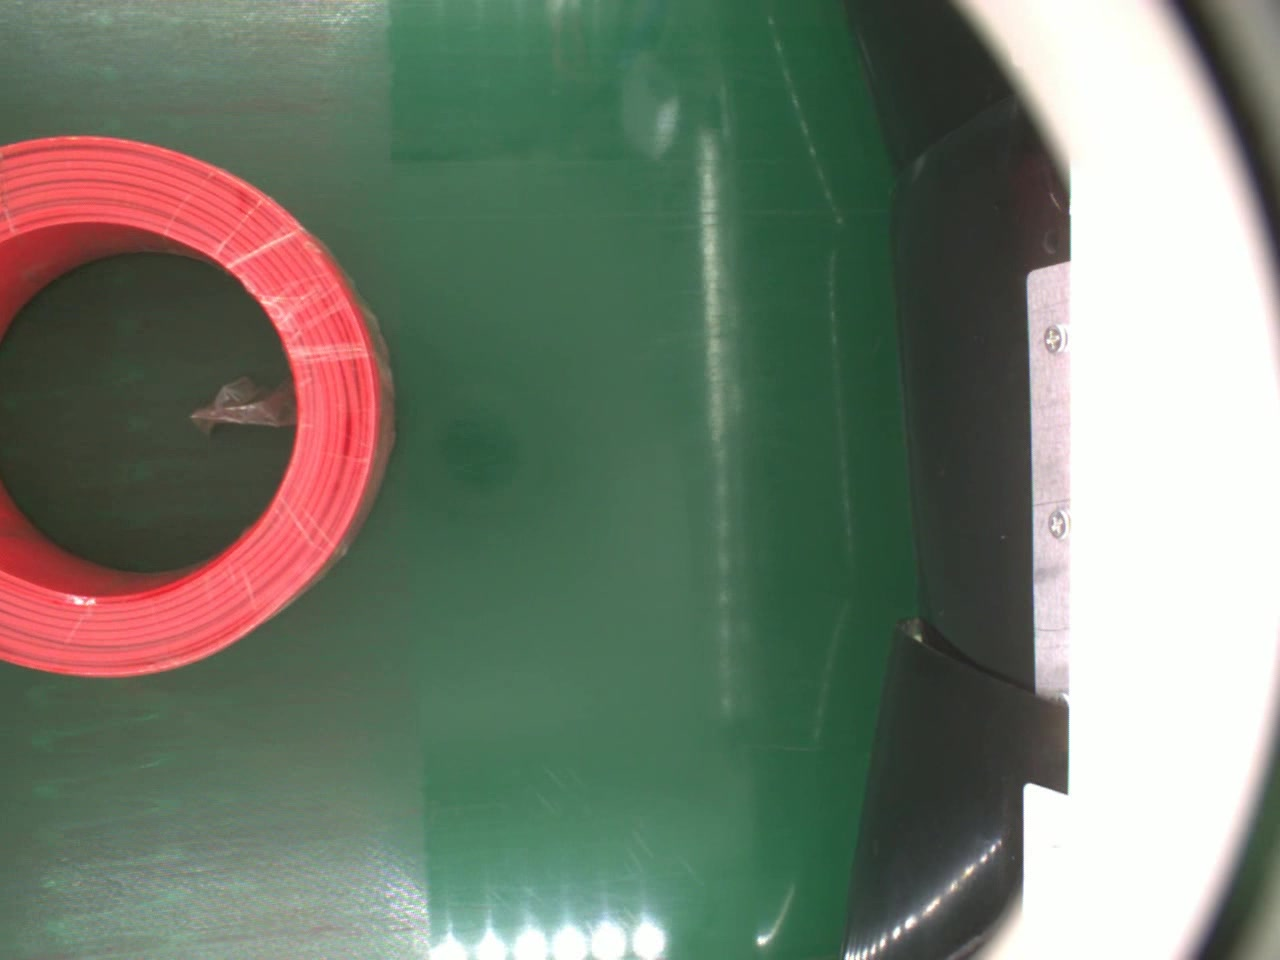red: (0, 136, 400, 678)
